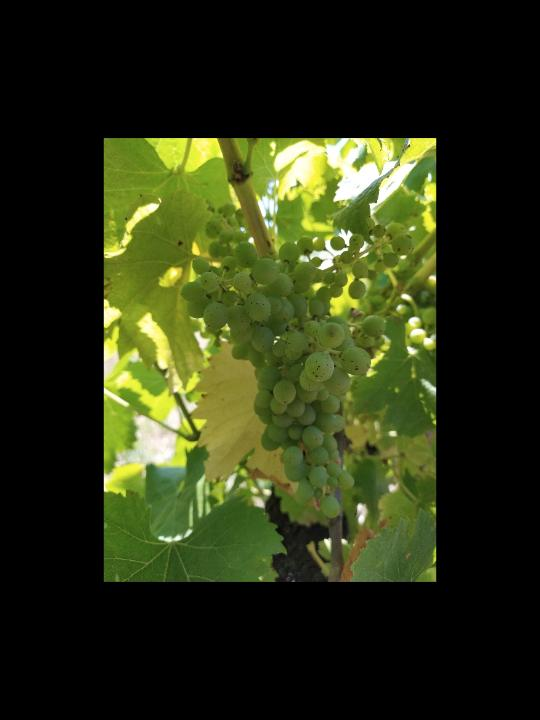grape: (181, 218, 416, 520)
